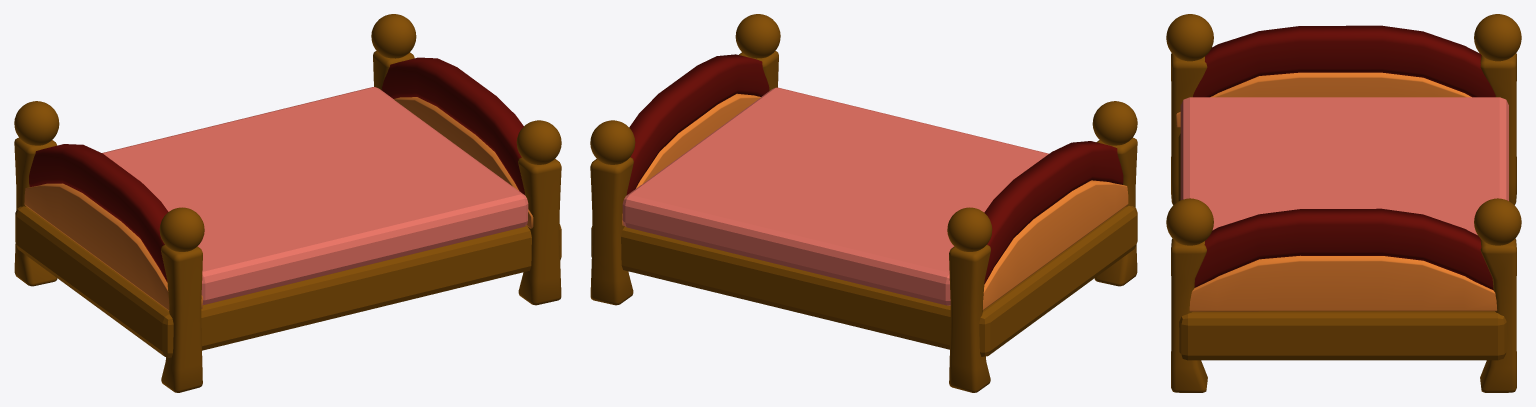
File: Bed1.fbx
3 views of the same model, side by side, from view 1: azimuth 30°, elevation 25°; view 2: azimuth 150°, elevation 25°; view 3: azimuth 270°, elevation 25° (orthographic). The views are drawn at different scales.
Parts seen in each view (by area): view 1: BedMattress; view 2: BedMattress; view 3: BedMattress.
Boxes of the visible parts, x1,y1,x2,y2 form: BedMattress: (14,14,561,392); BedMattress: (590,14,1137,392); BedMattress: (1166,14,1521,392).
Bounding box in the file's own units: 155 × 65.63 × 113.
